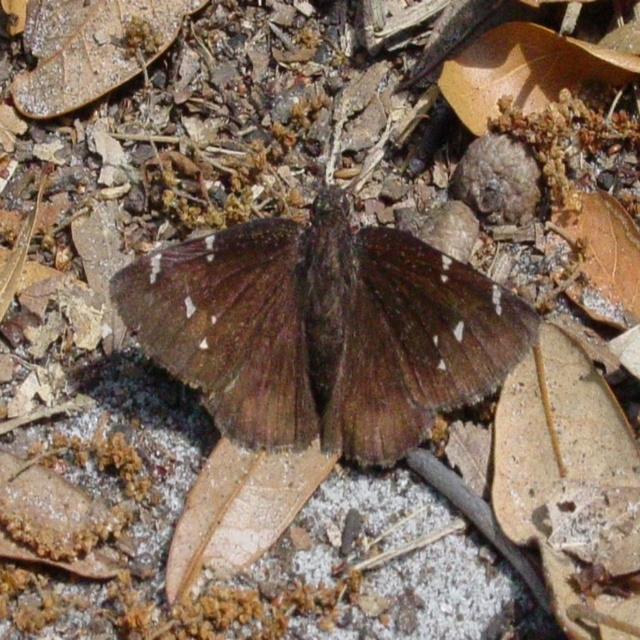Butterfly: (105, 111, 565, 541)
